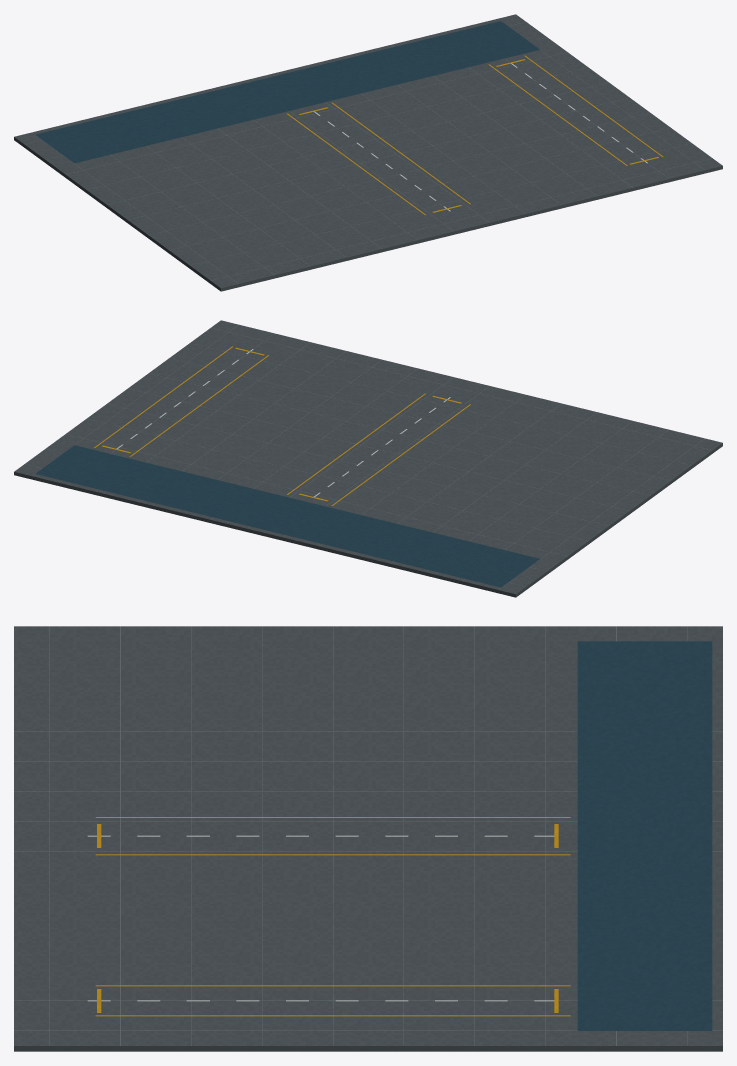
The model's file is floor.94a12c871add.glb.
3 views of the same model, one above another, from view 1: azimuth 30°, elevation 25°; view 2: azimuth 150°, elevation 25°; view 3: azimuth 270°, elevation 25° (orthographic). The views are drawn at different scales.
Parts seen in each view (by area): view 1: floor_partitioned_surface; view 2: floor_partitioned_surface; view 3: floor_partitioned_surface.
Part boxes in pixels (<box>): floor_partitioned_surface: <box>14,14,722,291</box>; floor_partitioned_surface: <box>14,320,722,597</box>; floor_partitioned_surface: <box>14,626,722,1051</box>.
Bounding box in the file's own units: 28 × 0.18 × 20.
5 materials, 4 textured.
